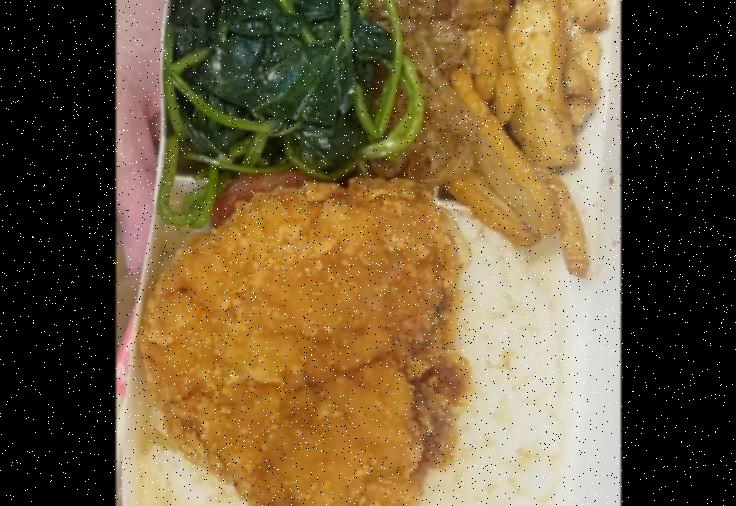box: (124, 0, 611, 506)
kara chicken leg steak: (144, 182, 457, 506)
side dish: (447, 0, 593, 272), (169, 0, 397, 171), (346, 0, 472, 188)
white rice: (156, 204, 568, 506)
